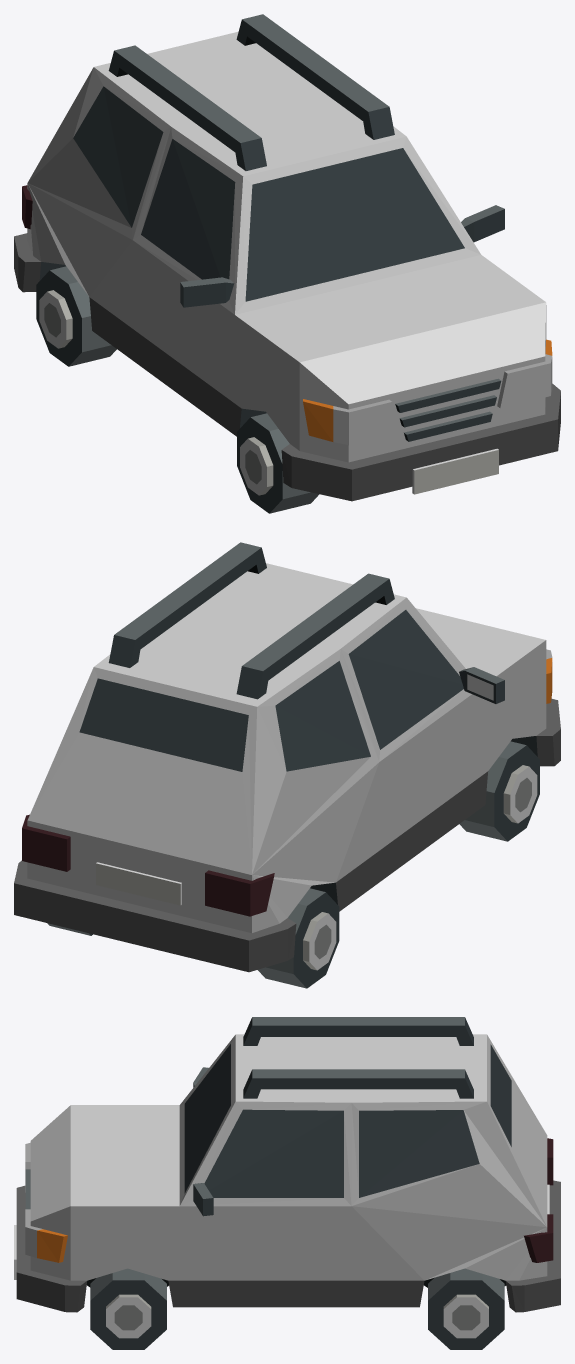
Rendered from TB_CITY_Car_SUV_B.FBX.
3 views of the same model, one above another, from view 1: azimuth 30°, elevation 25°; view 2: azimuth 150°, elevation 25°; view 3: azimuth 270°, elevation 25° (orthographic). The views are drawn at different scales.
Visible parts, largest first — view 1: TB_CITY_Car_SUV_B, TB_Car_SUV_Wheel008, TB_Car_SUV_Wheel005; view 2: TB_CITY_Car_SUV_B, TB_Car_SUV_Wheel005, TB_Car_SUV_Wheel008; view 3: TB_CITY_Car_SUV_B, TB_Car_SUV_Wheel006, TB_Car_SUV_Wheel007.
Boxes of the visible parts, bbox=[...] form: TB_CITY_Car_SUV_B: bbox=[14, 14, 560, 501]; TB_Car_SUV_Wheel008: bbox=[36, 266, 116, 366]; TB_Car_SUV_Wheel005: bbox=[237, 413, 319, 513]; TB_CITY_Car_SUV_B: bbox=[14, 542, 560, 972]; TB_Car_SUV_Wheel005: bbox=[459, 741, 539, 841]; TB_Car_SUV_Wheel008: bbox=[258, 888, 339, 988]; TB_CITY_Car_SUV_B: bbox=[14, 1017, 560, 1312]; TB_Car_SUV_Wheel006: bbox=[428, 1268, 504, 1349]; TB_Car_SUV_Wheel007: bbox=[90, 1268, 166, 1349].
Size of the model in its own units: 4.12 by 3.64 by 7.23.
